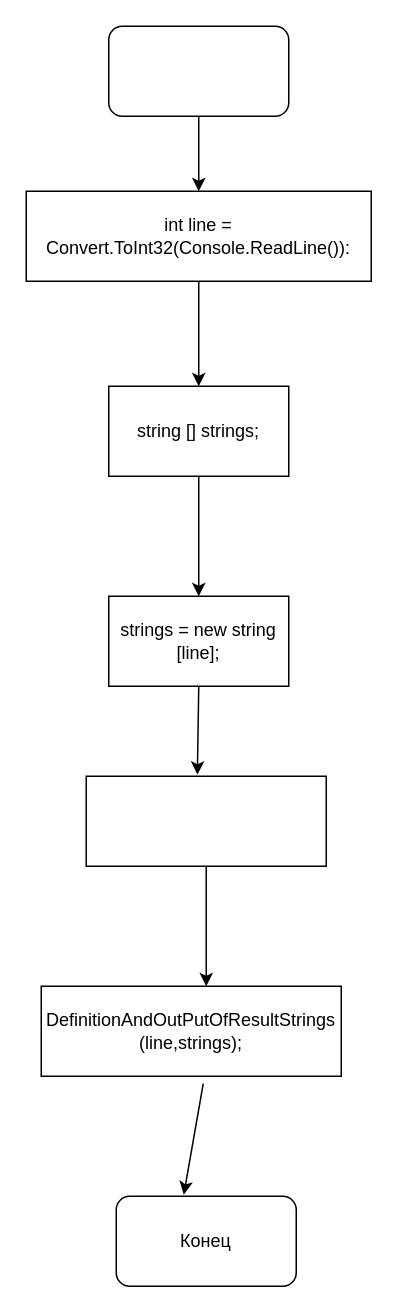
Some shapes in this 398 by 1313 pixel diagram are drawn without their labels. Each missing label, with the box of its shape:
DefinitionOfStringArray(line, strings);: (85, 775, 326, 866)
Начало: (107, 25, 289, 116)
